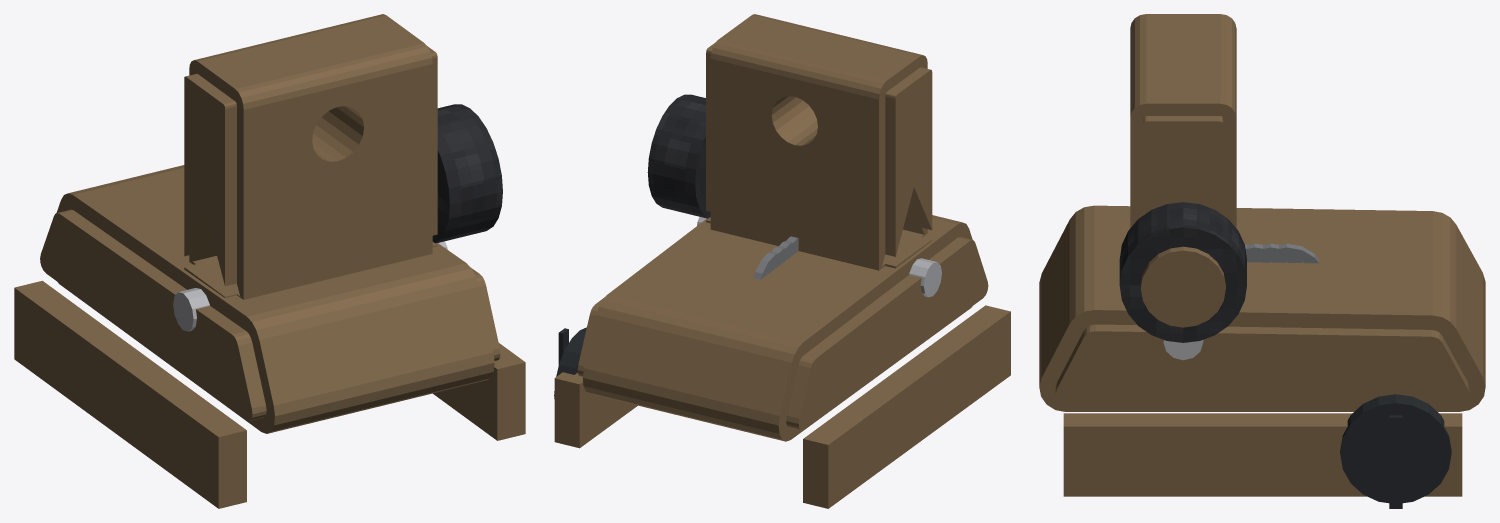
The model's file is alca_polimero_tan.glb.
3 renders of one model, left to right at view 1: azimuth 30°, elevation 25°; view 2: azimuth 150°, elevation 25°; view 3: azimuth 270°, elevation 25°, orthographic. The views are drawn at different scales.
Visible parts, largest first — view 1: alca_polimero_tan_polimero_tan, alca_polimero_tan_lamina_polimero_tan, alca_polimero_tan_lamina_recartilhado, alca_polimero_tan_aco_inox; view 2: alca_polimero_tan_polimero_tan, alca_polimero_tan_lamina_polimero_tan, alca_polimero_tan_lamina_recartilhado, alca_polimero_tan_aco_oxidado, alca_polimero_tan_aco_inox, alca_polimero_tan_mola; view 3: alca_polimero_tan_polimero_tan, alca_polimero_tan_lamina_polimero_tan, alca_polimero_tan_aco_oxidado, alca_polimero_tan_lamina_recartilhado, alca_polimero_tan_mola, alca_polimero_tan_aco_inox.
Part boxes in pixels (x1,y1,x2,y2): alca_polimero_tan_polimero_tan: [14, 165, 525, 508]; alca_polimero_tan_lamina_polimero_tan: [184, 14, 437, 299]; alca_polimero_tan_lamina_recartilhado: [432, 104, 502, 243]; alca_polimero_tan_aco_inox: [173, 241, 447, 331]; alca_polimero_tan_polimero_tan: [554, 215, 1010, 508]; alca_polimero_tan_lamina_polimero_tan: [706, 14, 932, 270]; alca_polimero_tan_lamina_recartilhado: [647, 94, 710, 218]; alca_polimero_tan_aco_oxidado: [554, 327, 586, 398]; alca_polimero_tan_aco_inox: [697, 216, 941, 297]; alca_polimero_tan_mola: [753, 236, 798, 279]; alca_polimero_tan_polimero_tan: [1039, 205, 1485, 496]; alca_polimero_tan_lamina_polimero_tan: [1130, 14, 1236, 327]; alca_polimero_tan_aco_oxidado: [1340, 394, 1451, 508]; alca_polimero_tan_lamina_recartilhado: [1119, 202, 1246, 342]; alca_polimero_tan_mola: [1245, 243, 1318, 263]; alca_polimero_tan_aco_inox: [1163, 340, 1203, 360].
Bounding box in the file's own units: 0.0282 × 0.0307 × 0.0336.
5 materials, 1 textured.
